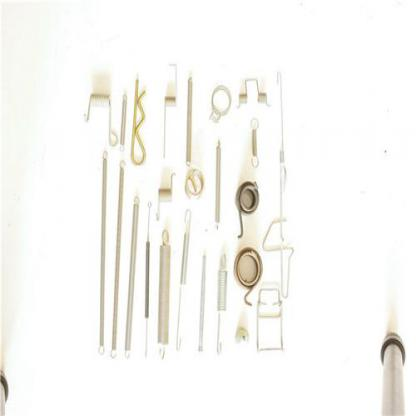FOD: (80, 88, 118, 148), (155, 227, 172, 360), (233, 245, 265, 308), (214, 248, 230, 354), (235, 177, 261, 240), (248, 113, 261, 167)
